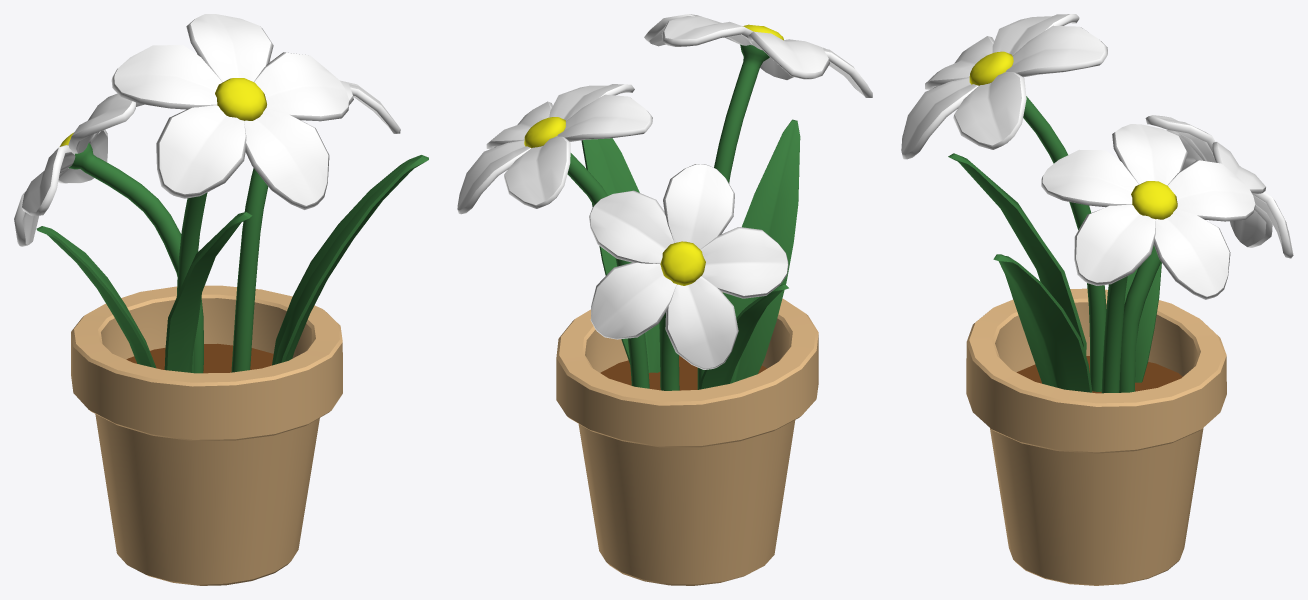
File: Plant_6.fbx
3 renders of one model, left to right at view 1: azimuth 30°, elevation 25°; view 2: azimuth 150°, elevation 25°; view 3: azimuth 270°, elevation 25°, orthographic. The views are drawn at different scales.
Visible parts, largest first — view 1: Plant_6; view 2: Plant_6; view 3: Plant_6.
Part boxes in pixels (bbox=[...]): Plant_6: bbox=[14, 14, 428, 585]; Plant_6: bbox=[457, 14, 872, 585]; Plant_6: bbox=[901, 14, 1293, 585].
Size of the model in its own units: 0.3295 by 0.5129 by 0.3561.
